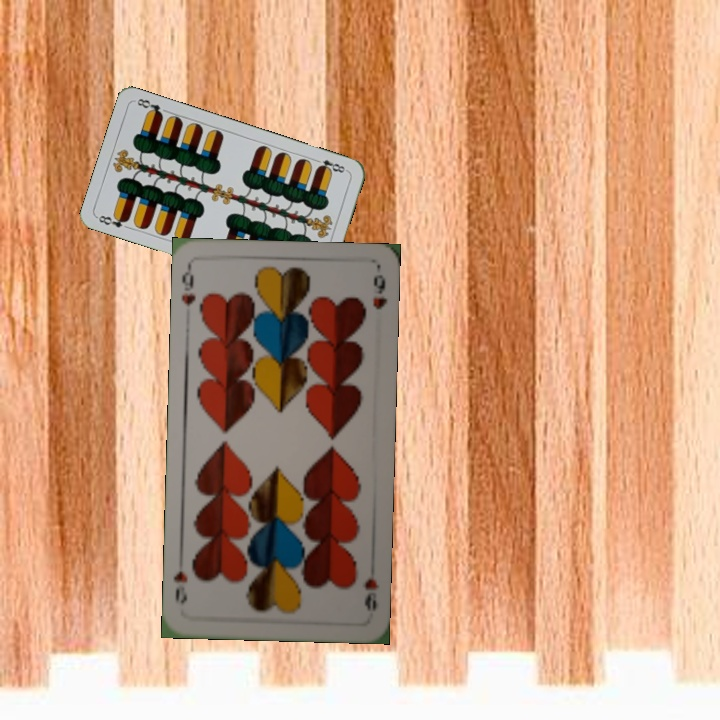E8: (311, 155, 350, 175), (94, 211, 131, 230)
H9: (177, 263, 199, 309), (360, 574, 381, 613)
